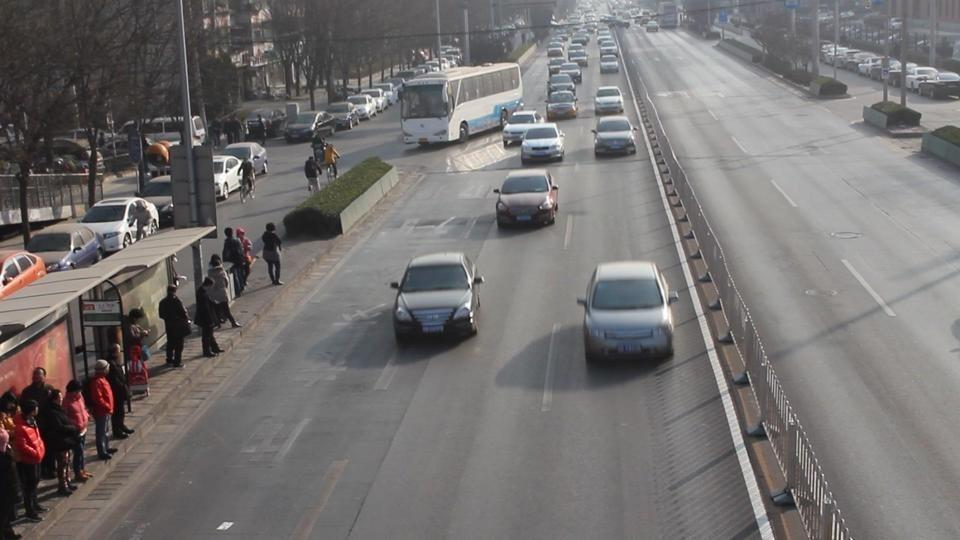car: (577, 260, 678, 364), (391, 249, 485, 343), (77, 197, 159, 250), (23, 223, 103, 272), (494, 169, 560, 228), (592, 115, 638, 158), (0, 250, 47, 292), (519, 124, 566, 165), (139, 179, 176, 229), (285, 111, 341, 144), (221, 142, 270, 177), (209, 155, 244, 200), (502, 110, 543, 148), (915, 71, 960, 100), (322, 103, 364, 131), (545, 90, 579, 121), (345, 93, 380, 119), (594, 86, 623, 116), (547, 74, 577, 97)
